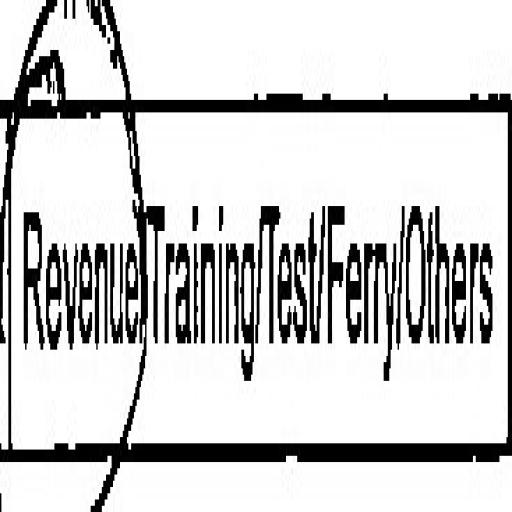check: (5, 0, 145, 512)
